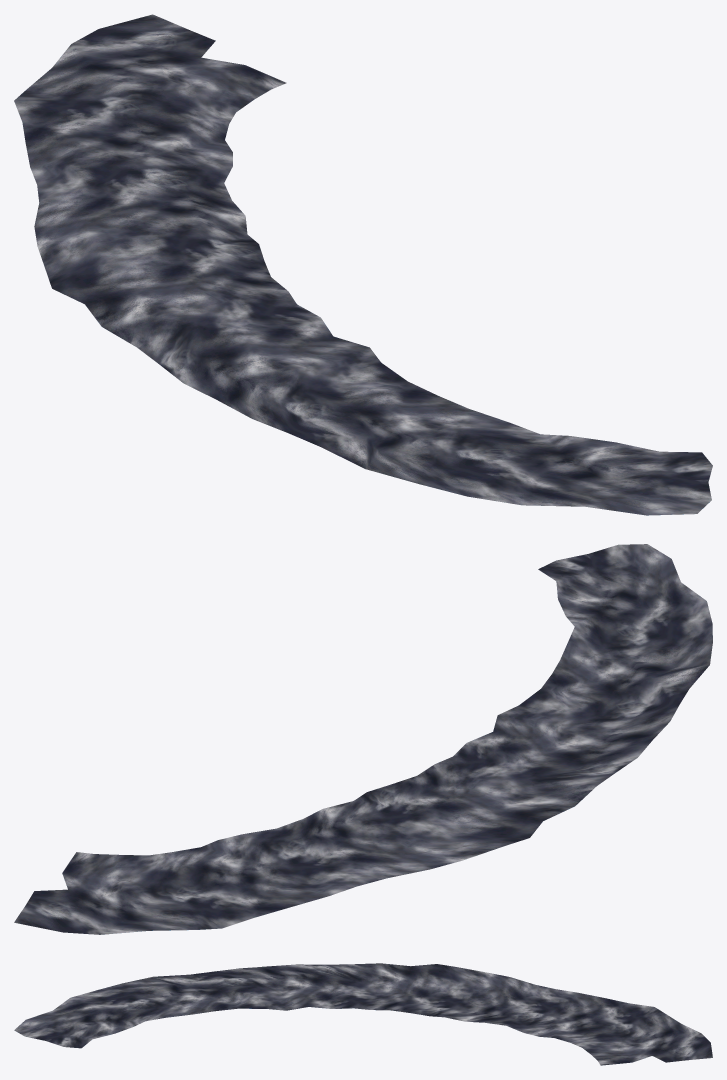
Rendered from MIRKWOOD_WATERB.fbx.
3 views of the same model, one above another, from view 1: azimuth 30°, elevation 25°; view 2: azimuth 150°, elevation 25°; view 3: azimuth 270°, elevation 25° (orthographic). The views are drawn at different scales.
Parts seen in each view (by area): view 1: MIRKWOOD_WATERB; view 2: MIRKWOOD_WATERB; view 3: MIRKWOOD_WATERB.
Boxes of the visible parts, x1,y1,x2,y2 form: MIRKWOOD_WATERB: [14, 14, 712, 515]; MIRKWOOD_WATERB: [14, 544, 712, 934]; MIRKWOOD_WATERB: [14, 963, 712, 1065].
Size of the model in its own units: 280019 by 1160 by 808753.
Materials: 2 (2 with a texture image).
